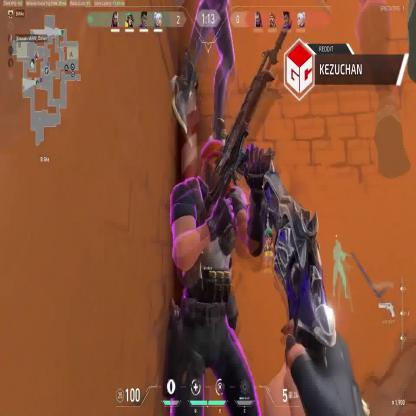enemy: (164, 140, 274, 416), (170, 0, 235, 143)
enemy_head: (200, 140, 228, 189)
